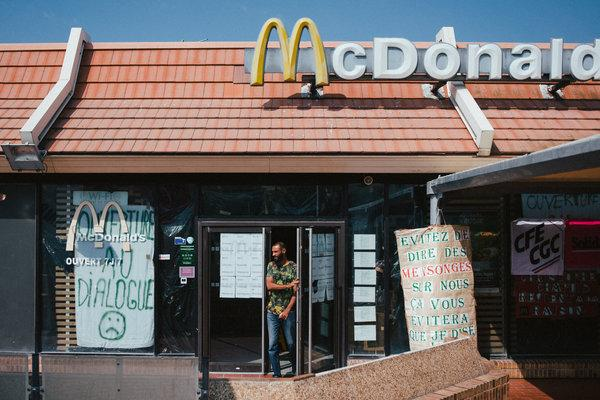mcdonalds: (247, 17, 329, 85)
